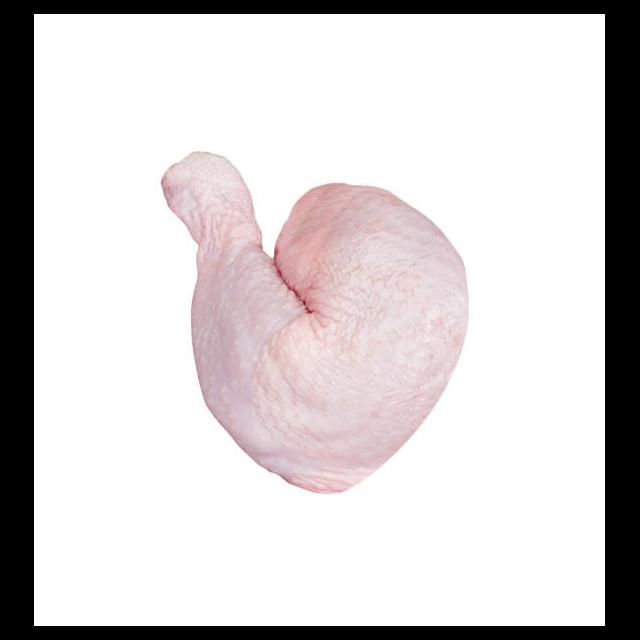chicken: (160, 148, 472, 496)
